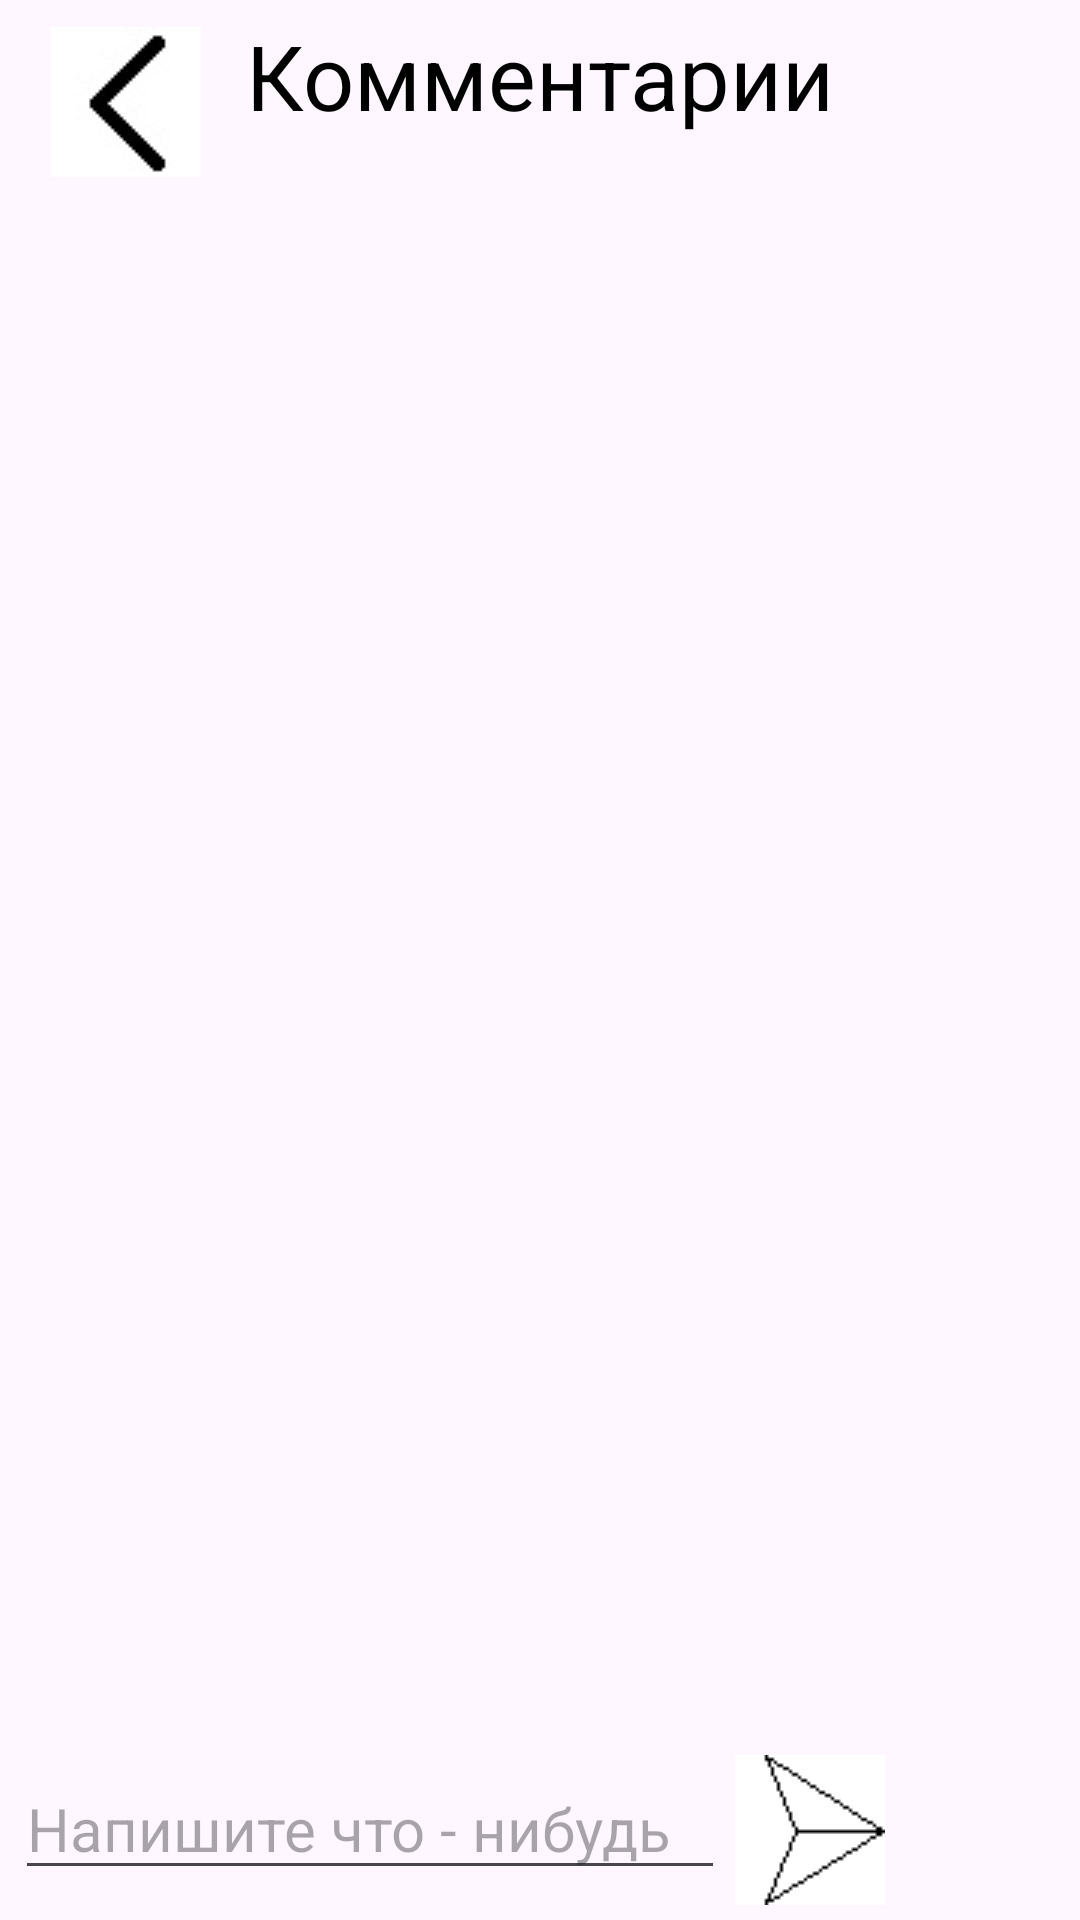

Screen size 1080px x 1920px. Icon name, then its center in pixels as [x,y]:
back: [127,103]
sendcomm: [824,1830]
